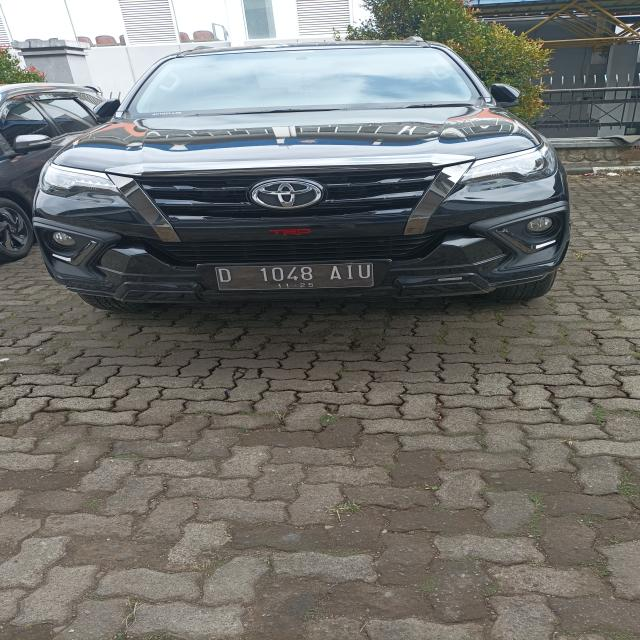license-plat: (191, 254, 398, 308)
